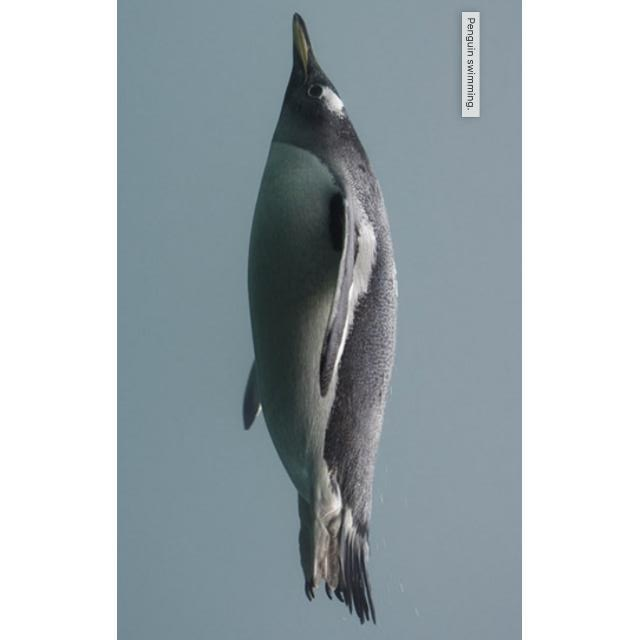penguin: (241, 12, 398, 624)
